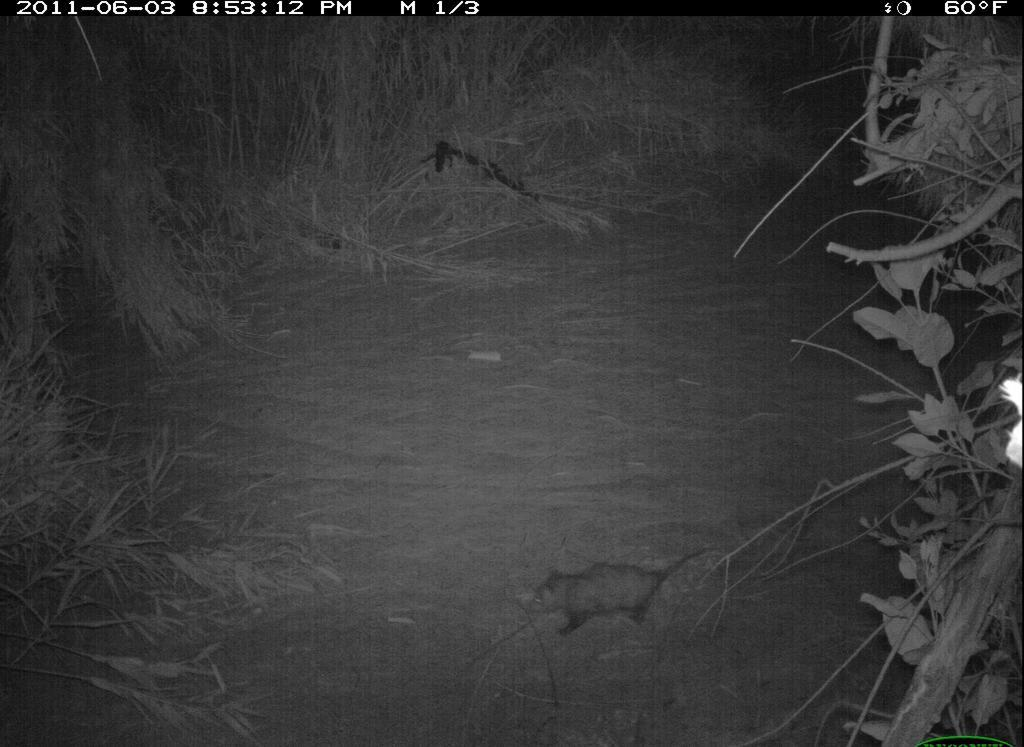opossum: (506, 541, 733, 661)
